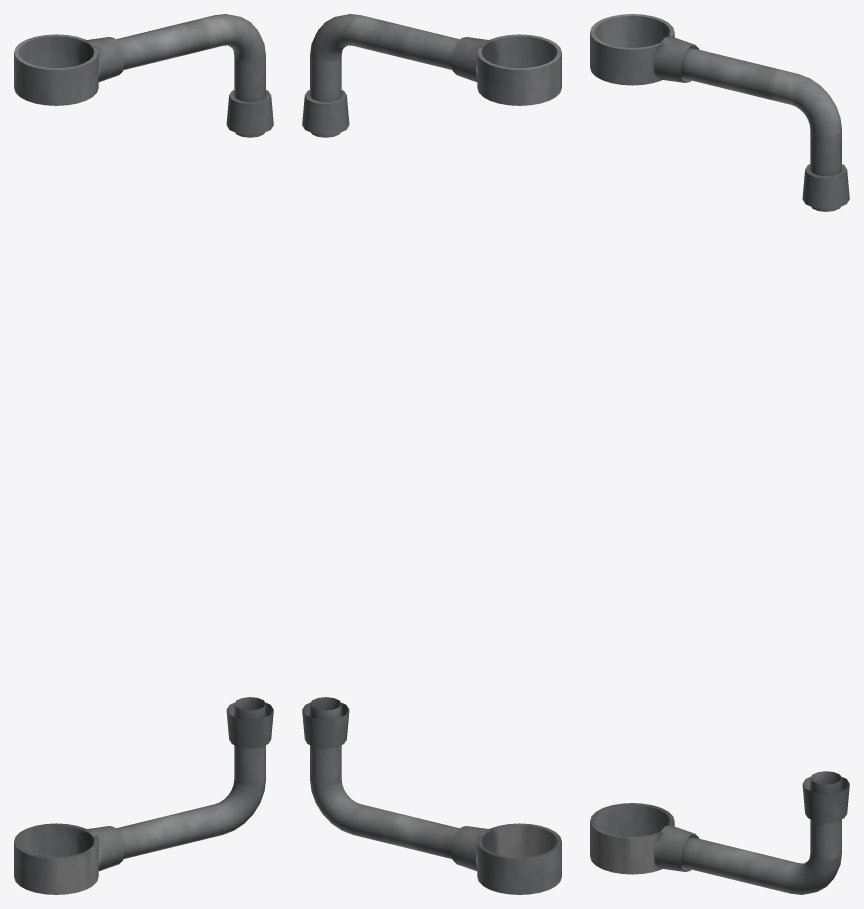
File: sideMountPipe-v1-galvanised.glb
3 renders of one model, left to right at view 1: azimuth 30°, elevation 25°; view 2: azimuth 150°, elevation 25°; view 3: azimuth 330°, elevation 25°, orthographic.
Parts seen in each view (by area): view 1: sideMountPipe-v1-galvanised; view 2: sideMountPipe-v1-galvanised; view 3: sideMountPipe-v1-galvanised.
Boxes of the visible parts, box(x1,y1,x2,y2) form: sideMountPipe-v1-galvanised: box(14, 14, 273, 894); sideMountPipe-v1-galvanised: box(302, 14, 561, 894); sideMountPipe-v1-galvanised: box(590, 14, 849, 894).
Bounding box in the file's own units: 0.4401 × 1.39 × 0.1283.
1 material, 1 textured.
